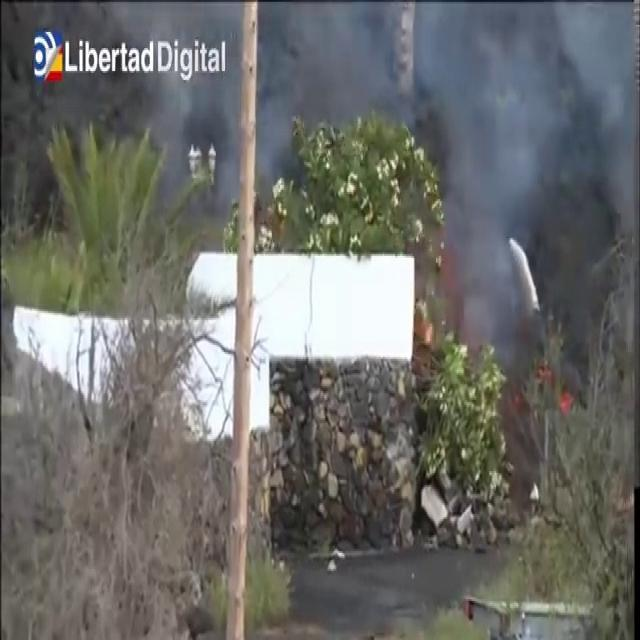Smoke: (384, 3, 638, 320), (52, 0, 370, 179)
